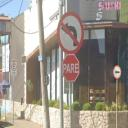NoVirarEsquerda: (56, 12, 84, 56)
